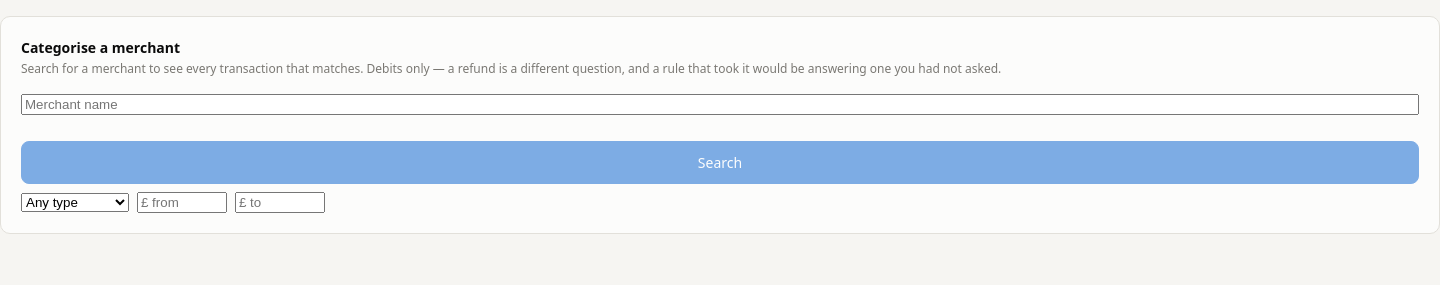
Scenario: narrowing by type and amount › says what it searched for when nothing matches: {"min":"90"}
Step 1. Type "90" into the field named "Smallest amount" → (182, 202), box [137,192,227,213]
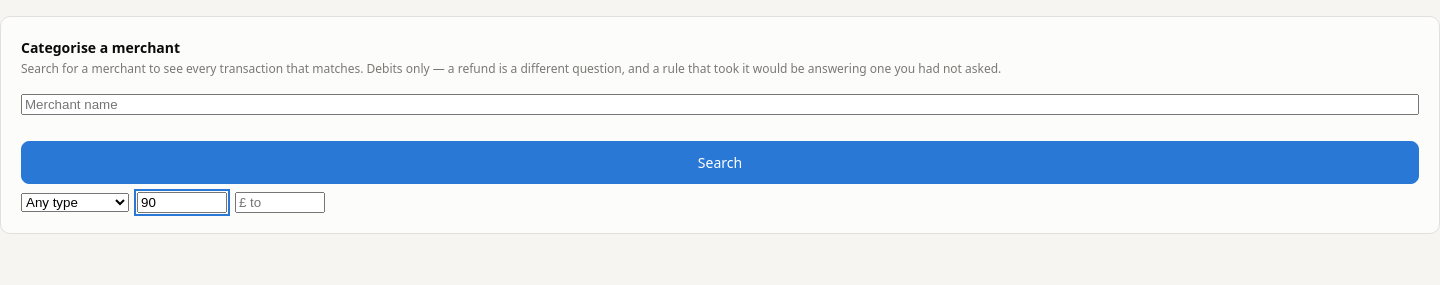
Step 2. Click the button "Search" → (720, 162), box [21,141,1419,184]
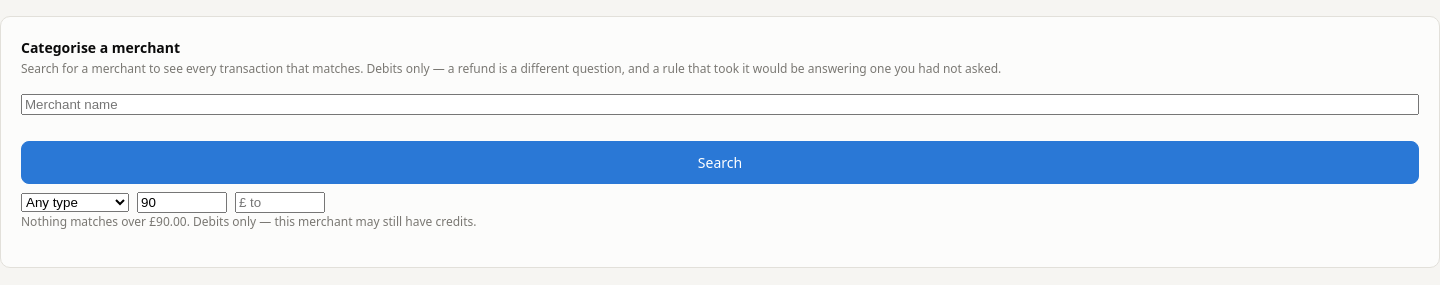
Check: the text "over £90.00" is shown, box [21,213,190,230]
